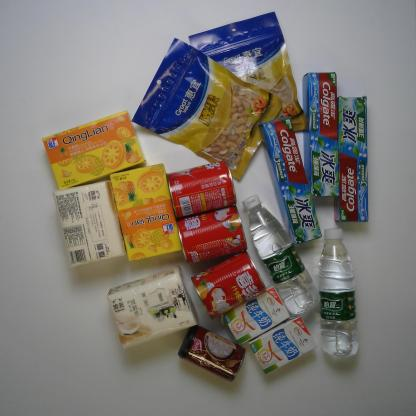Canned Food: (190, 249, 268, 321), (165, 159, 238, 219), (178, 204, 248, 266), (177, 323, 247, 383)
Dessert: (41, 110, 148, 192), (109, 162, 183, 263)
Dried Fruit: (131, 36, 283, 183), (188, 10, 310, 134)
Drink: (242, 193, 321, 315), (318, 227, 360, 359)
Milk: (247, 315, 317, 376), (222, 284, 290, 346)
Personal Hygiene: (259, 115, 322, 246), (301, 71, 340, 198), (333, 93, 370, 224)
Tissue: (106, 265, 199, 350), (53, 179, 128, 269)
